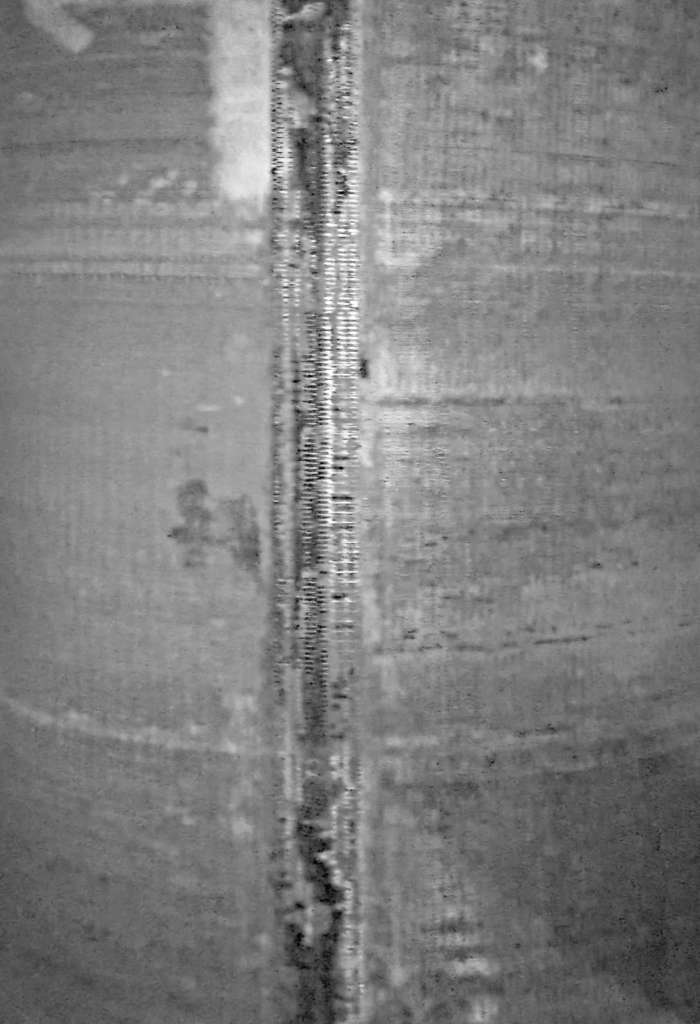splice: (260, 1, 374, 1022)
